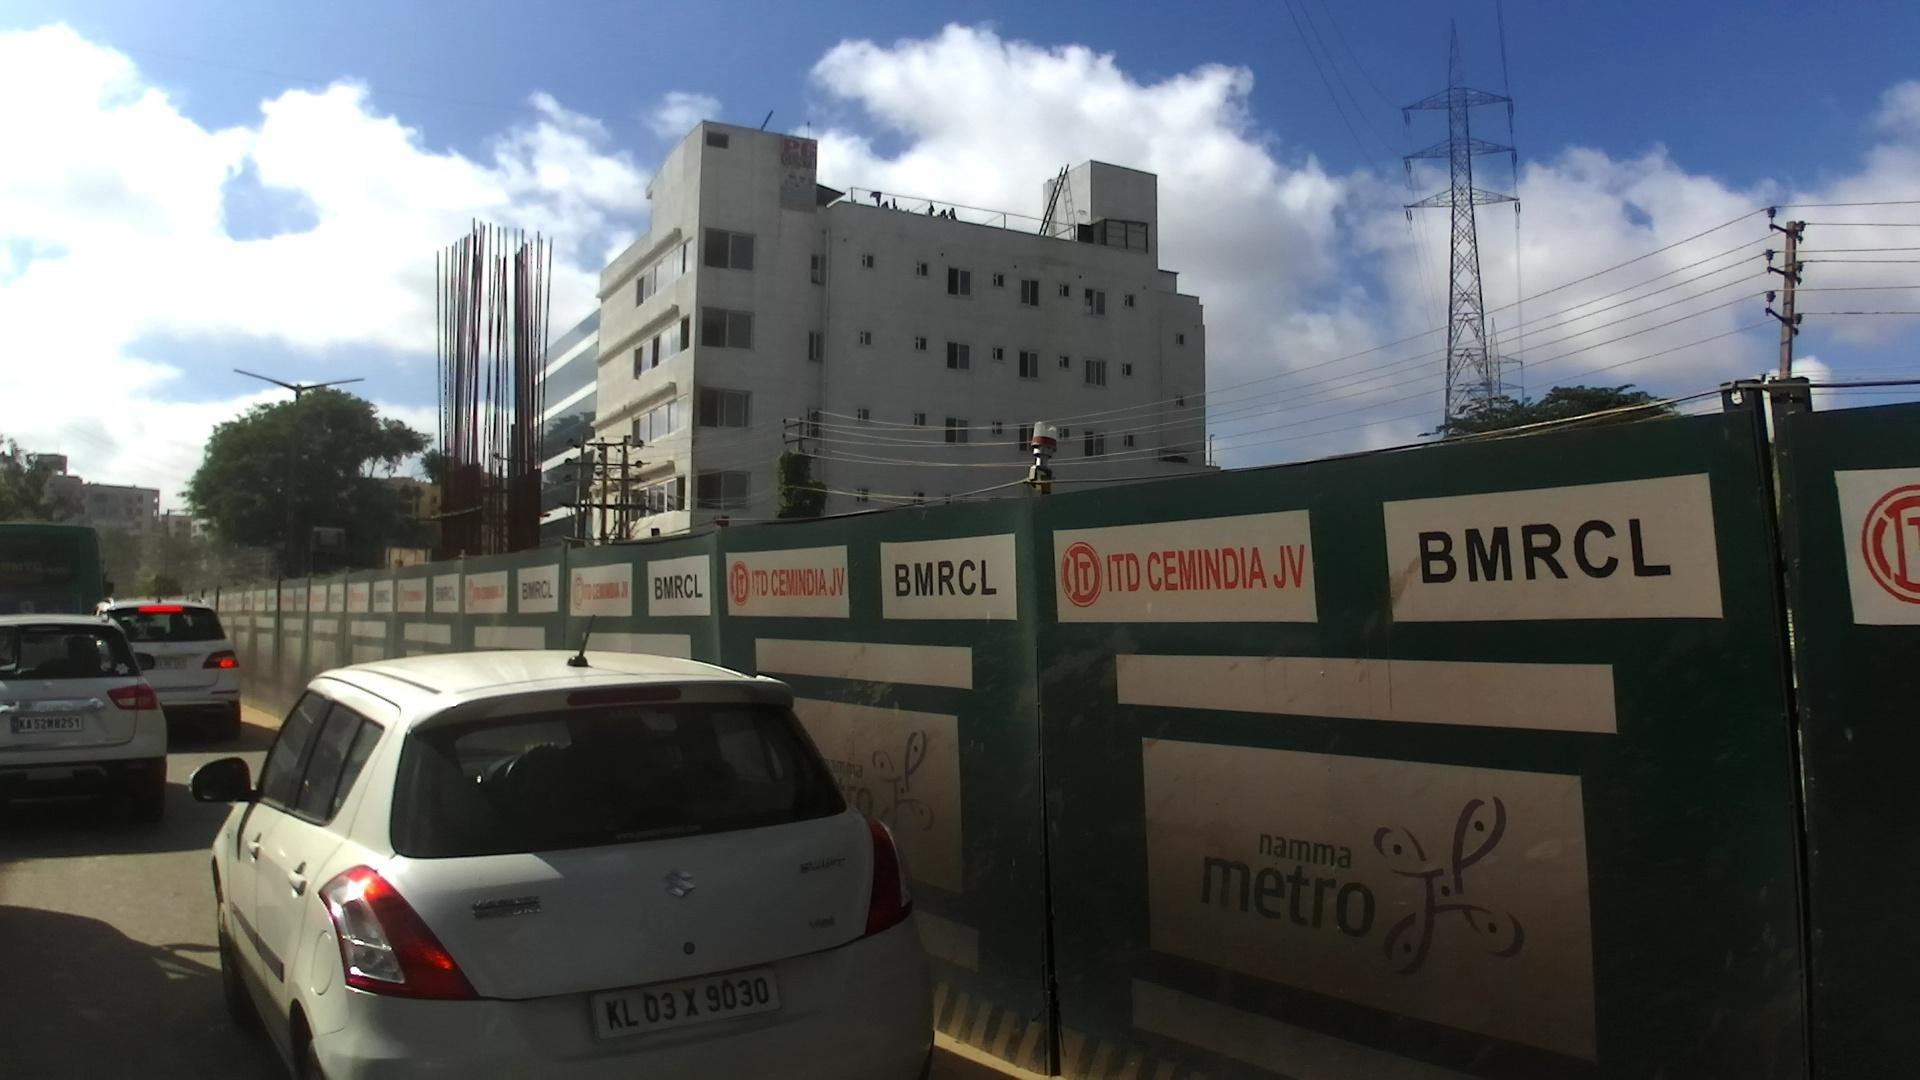off: (0, 0, 1614, 1080)
